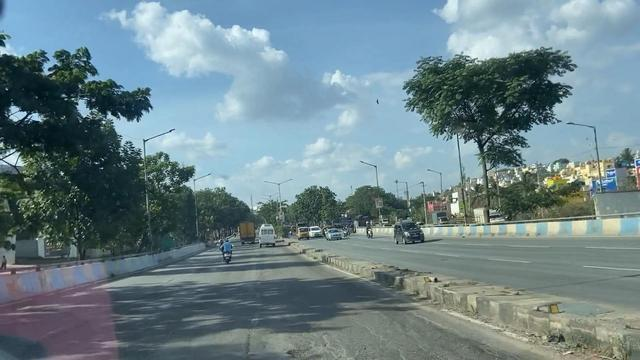HMV: (254, 222, 279, 252)
LMV: (220, 236, 235, 263)
RoadDamages: (230, 287, 423, 360)
